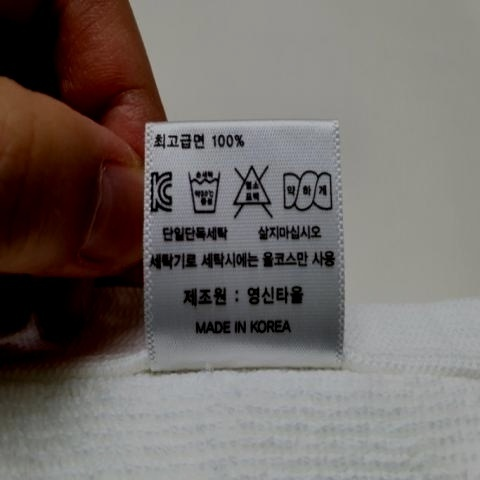hand_wash: (186, 169, 227, 218)
non_chlorine_bleach: (231, 160, 276, 221)
wring: (280, 170, 334, 213)
